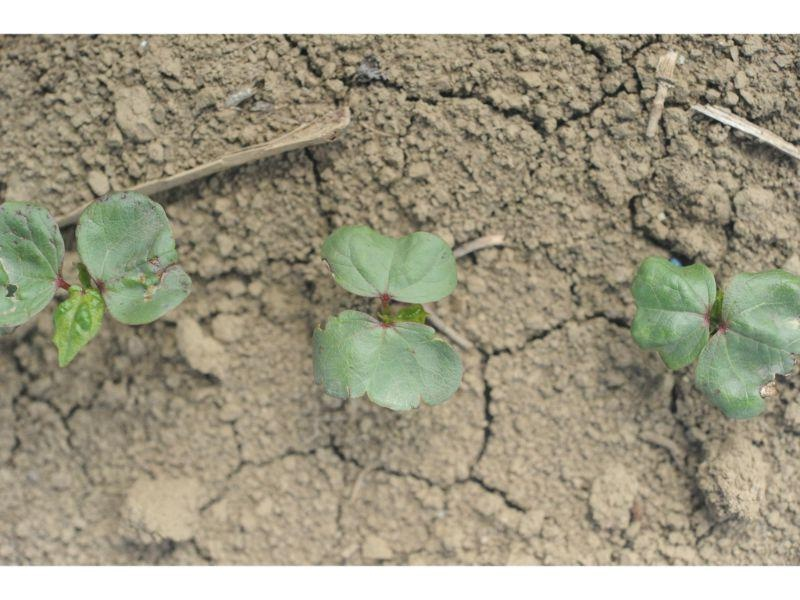cotton: (0, 191, 192, 368), (312, 226, 464, 410), (632, 257, 797, 419)
